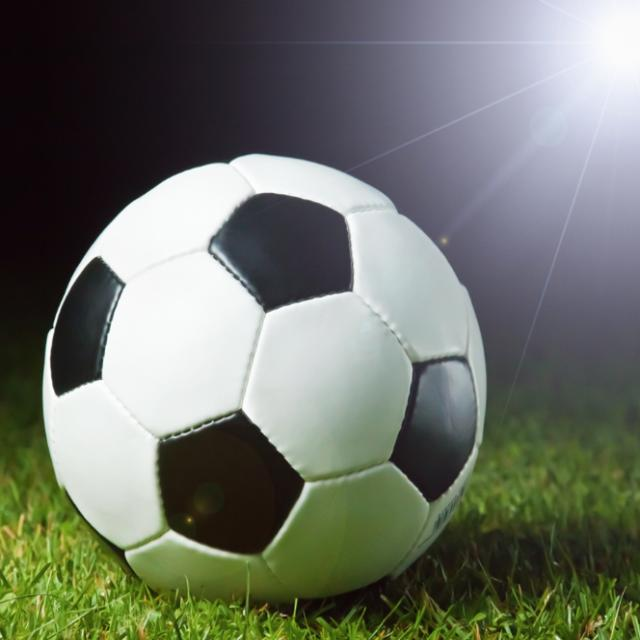football: (32, 105, 504, 594)
